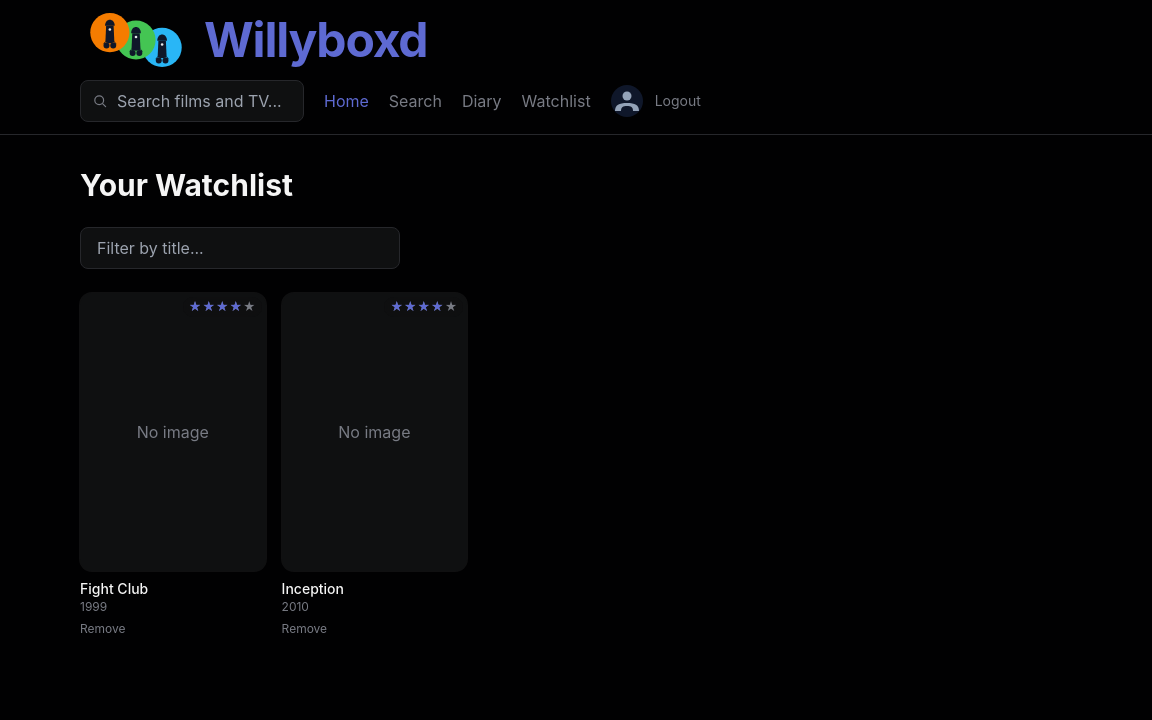
Test case: Watchlist › clearing the filter restores all entries
Expected: the heading "Fight Club" is shown, [80, 580, 148, 597]
Type "inception" into the field named "Filter watchlist by title".
click(240, 248); type("inception")  # box [80, 227, 400, 269]
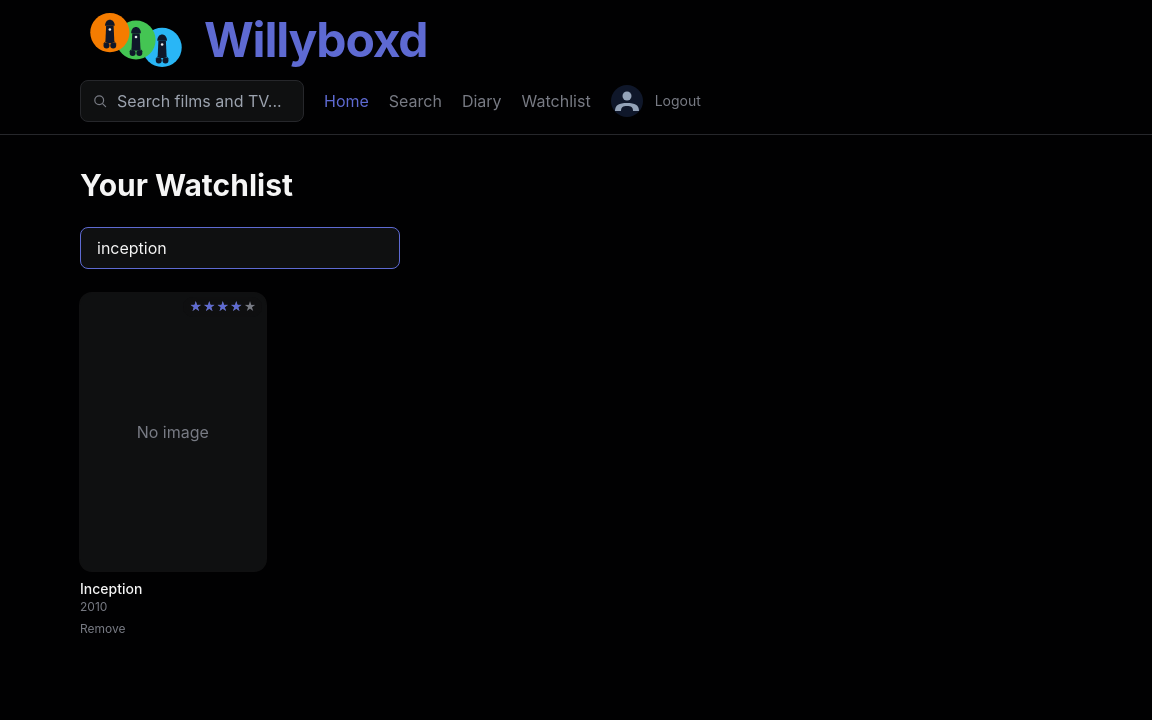
Expected: the link "Fight Club" is gone
Clear the field named "Filter watchlist by title" at (240, 248), box [80, 227, 400, 269]
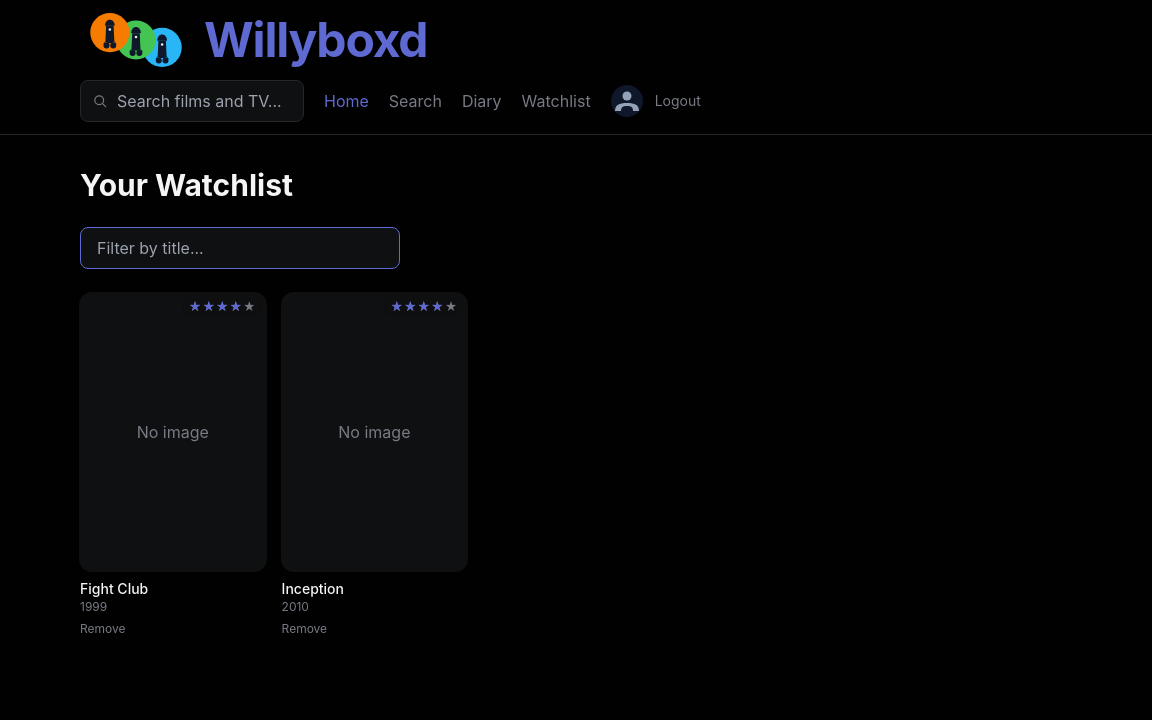
Expected: the heading "Inception" is shown, [282, 580, 344, 597]
Expected: the heading "Fight Club" is shown, [80, 580, 148, 597]
